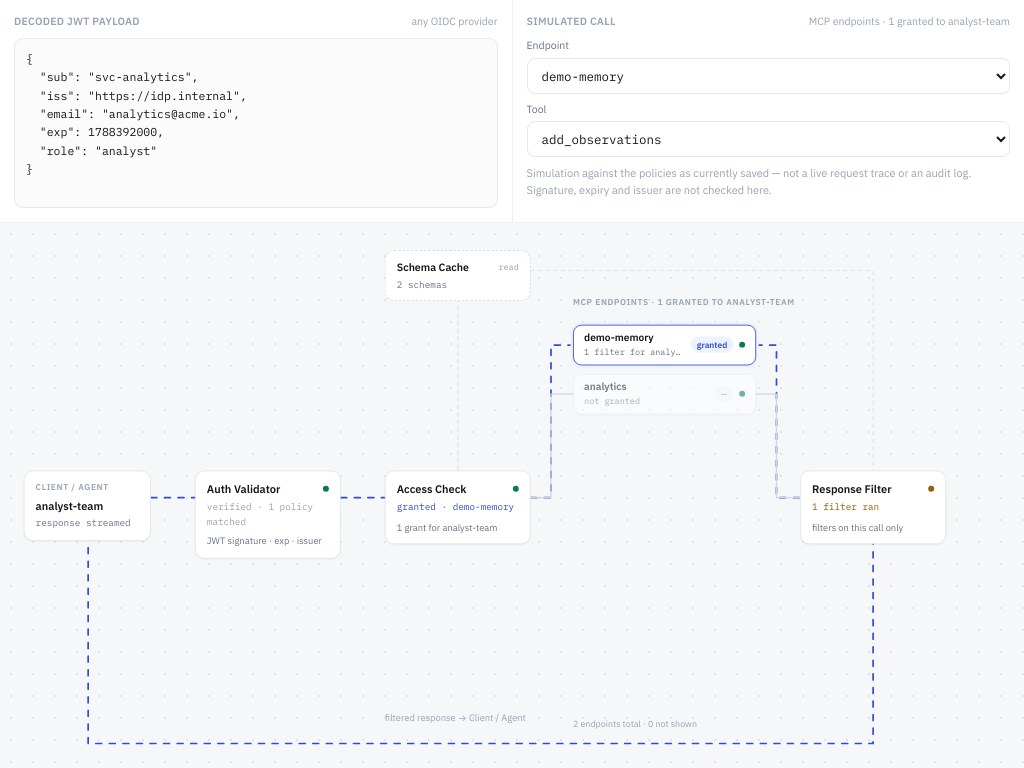
Test: RequestPathTab › selecting the Response Filter node shows which filters ran and every dropped field
Click the button "Response Filter".
click(873, 507)  # box [800,470,946,544]
(page scrolled)
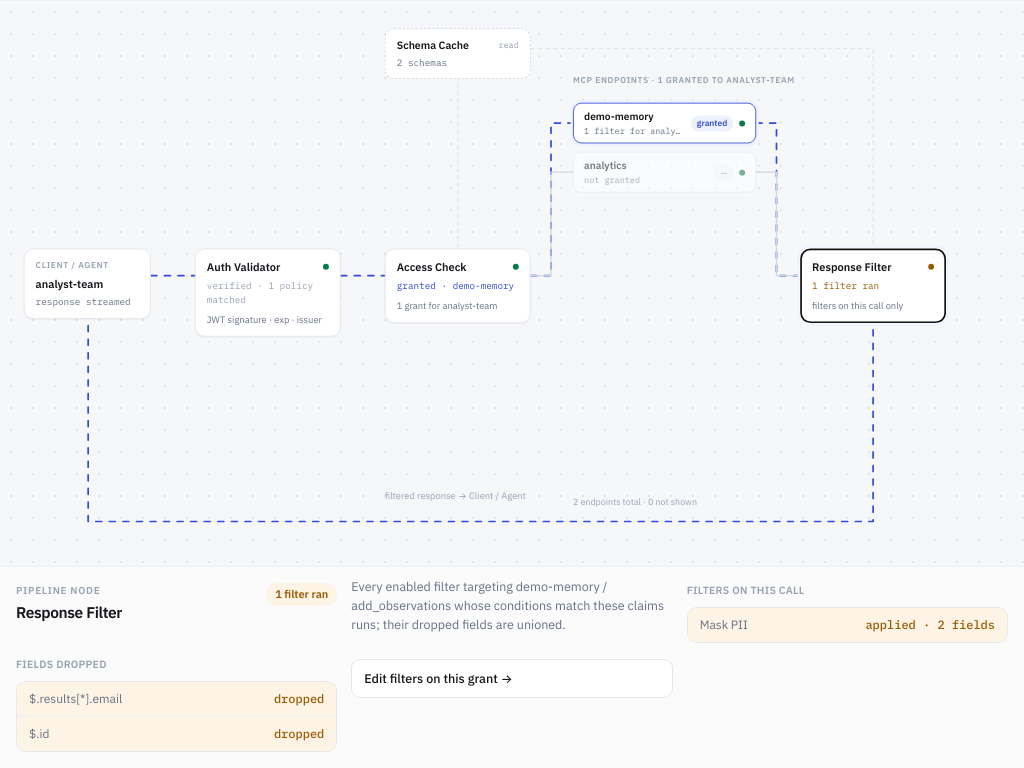
Check: the text "$.results[*].email" is shown, box [29,690,122,706]
Check: the text "$.id" is shown, box [29,726,49,742]
